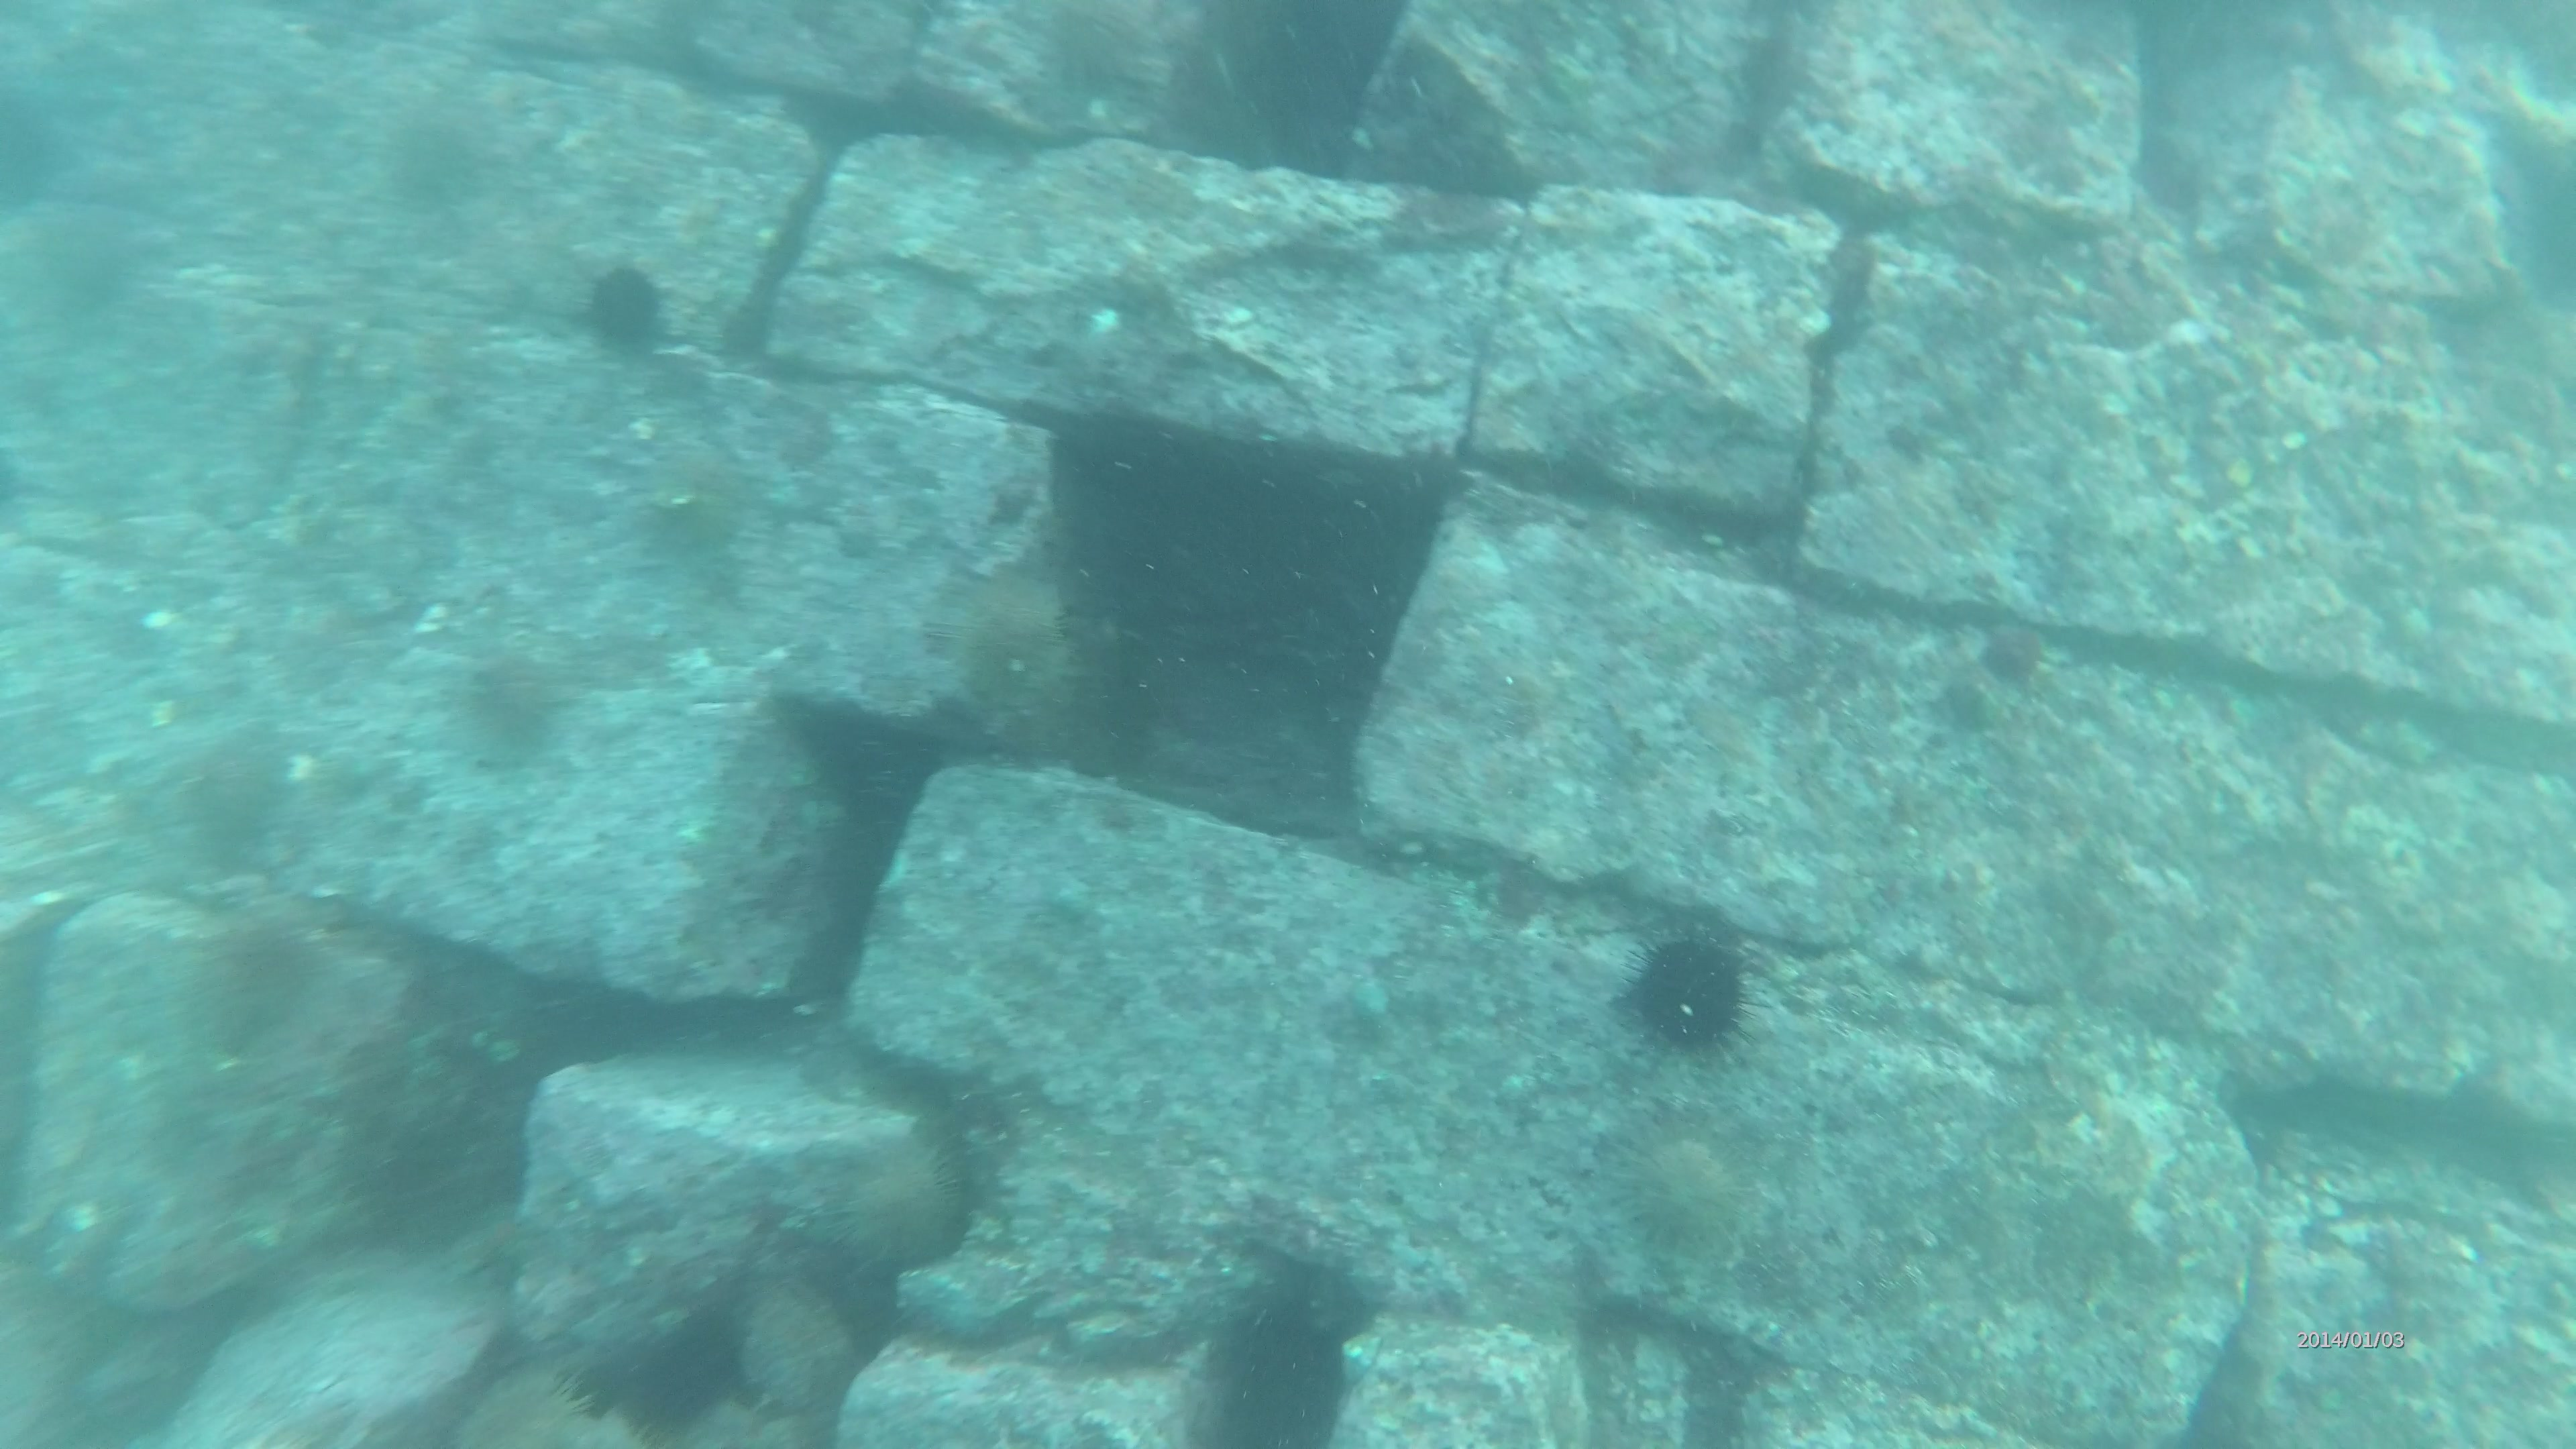echinus: (1610, 1108, 1766, 1269), (1633, 909, 1766, 1076), (948, 570, 1086, 727), (205, 892, 333, 1024), (837, 1143, 971, 1265), (644, 448, 752, 557), (193, 727, 288, 840), (479, 649, 573, 757), (582, 255, 671, 357)
